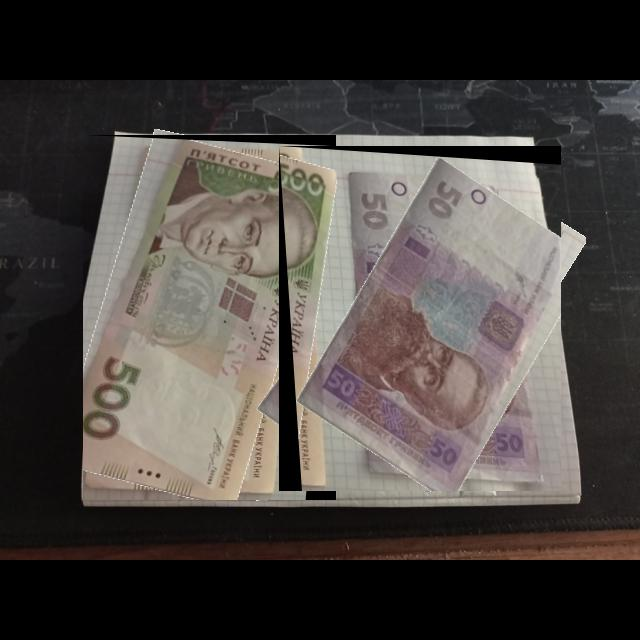500uah: (83, 139, 335, 501)
50uah: (293, 155, 562, 492)
